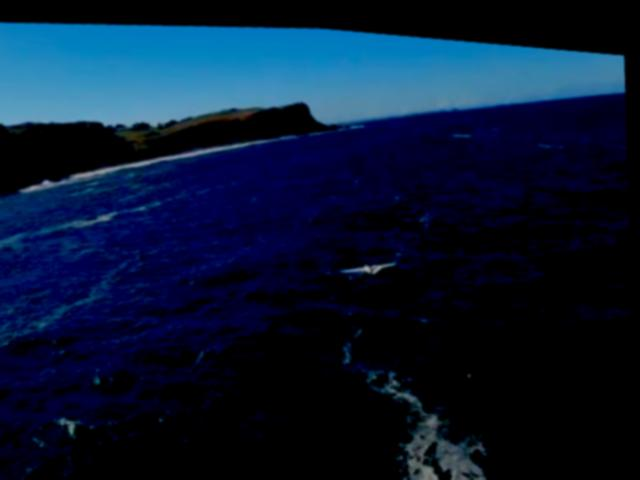uav: (337, 247, 401, 274)
